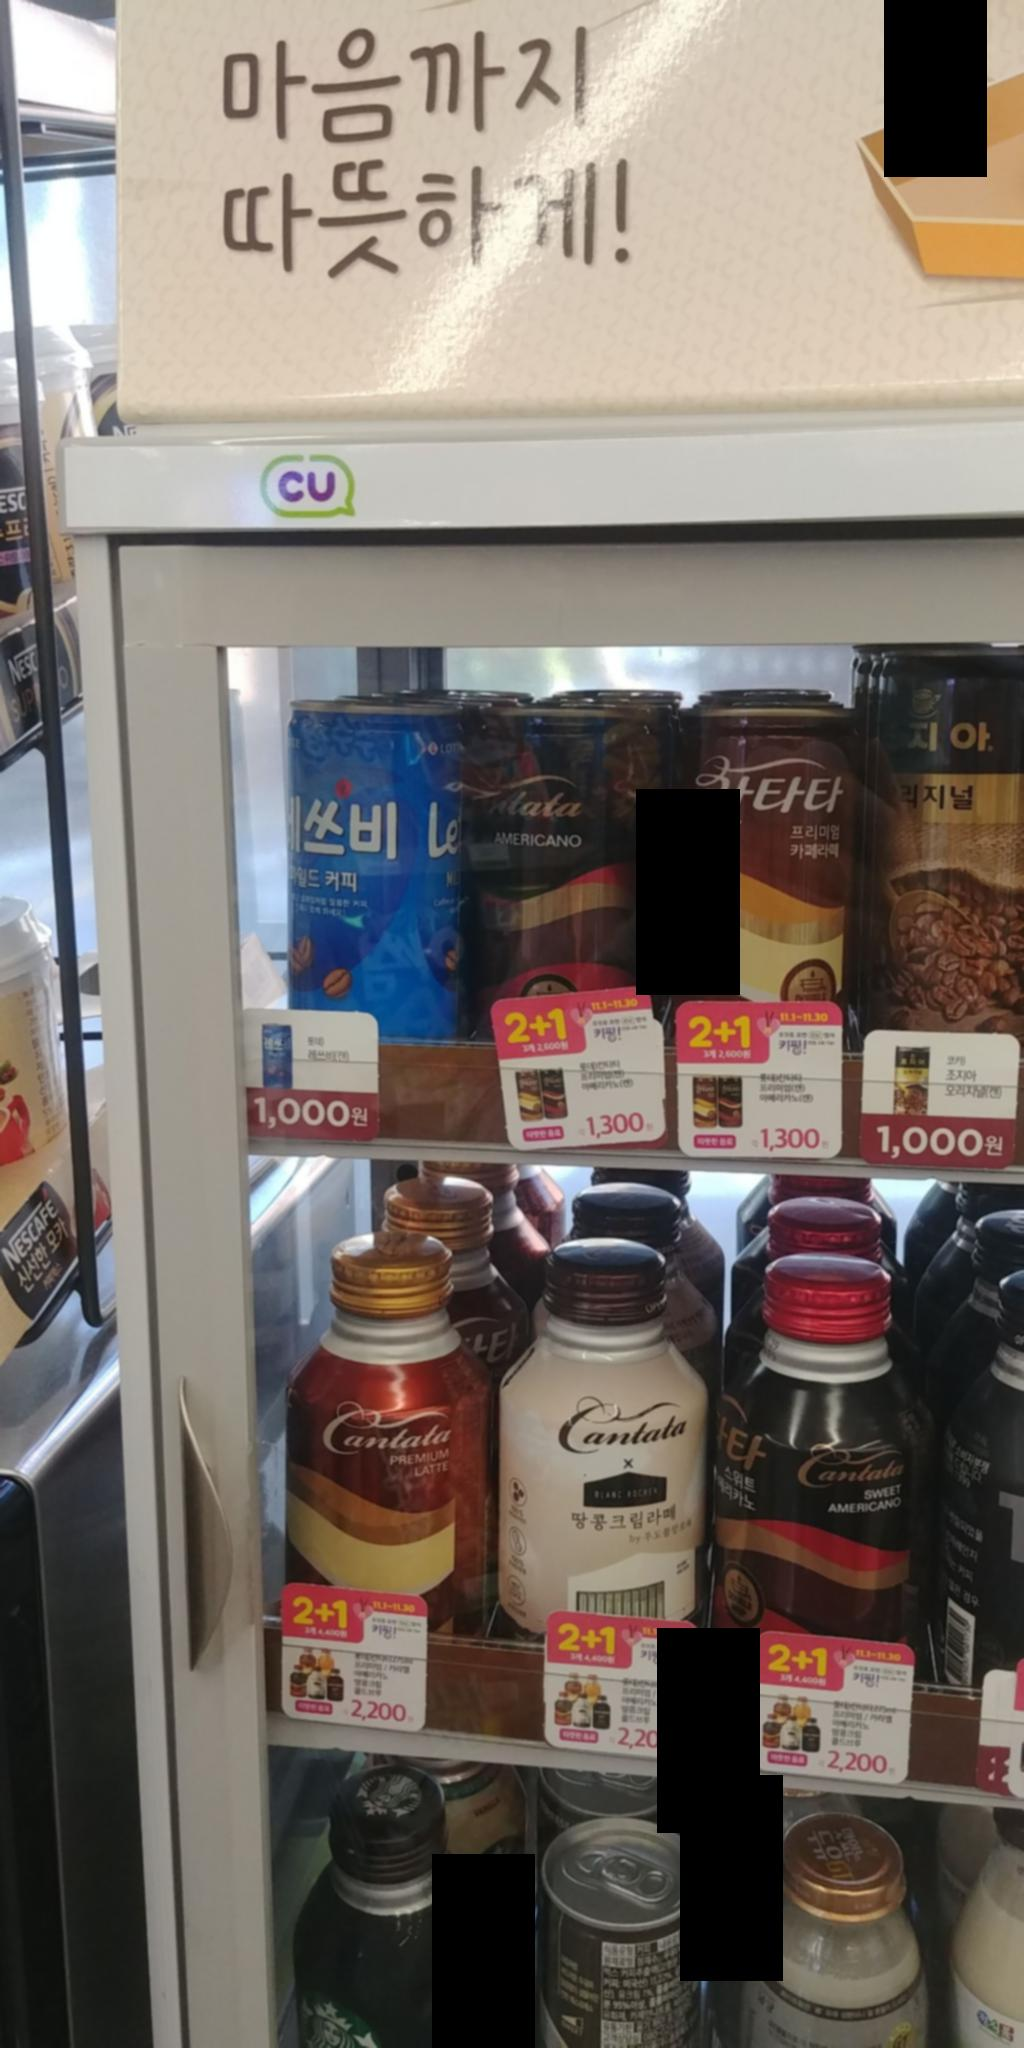letsbe: (307, 709, 455, 1011)
